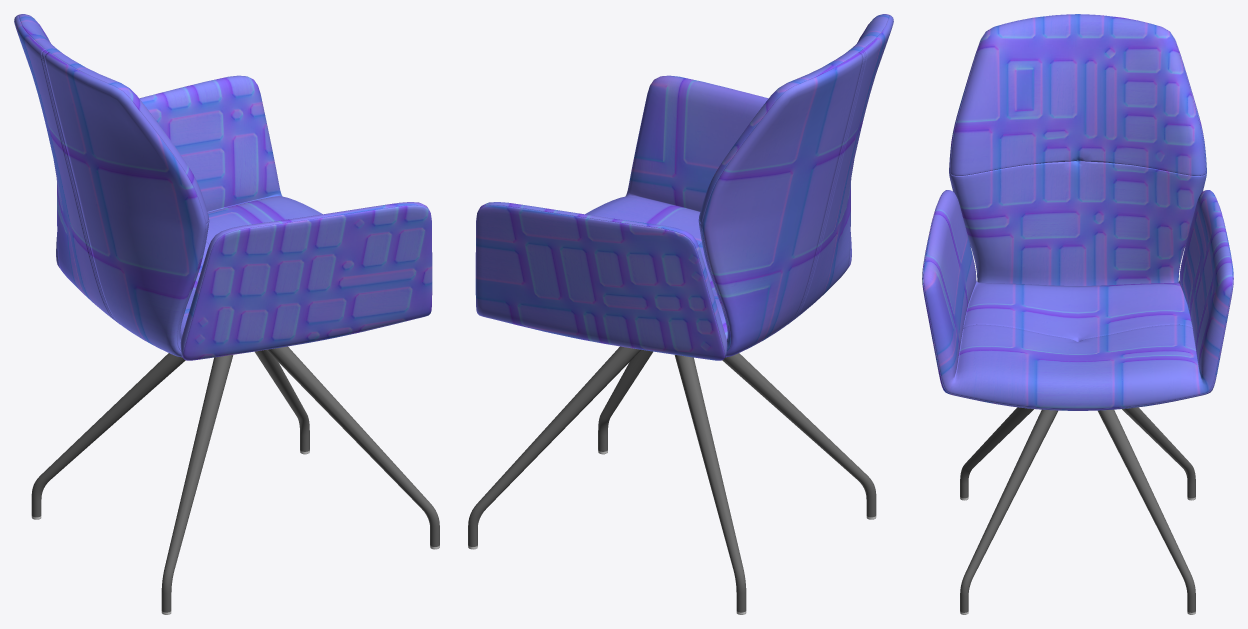
File: blue_brown.fbx
3 renders of one model, left to right at view 1: azimuth 30°, elevation 25°; view 2: azimuth 150°, elevation 25°; view 3: azimuth 270°, elevation 25°, orthographic. The views are drawn at different scales.
Visible parts, largest first — view 1: Box016, Line021; view 2: Box016, Line021; view 3: Box016, Line021.
Boxes of the visible parts, x1,y1,x2,y2 form: Box016: [14, 14, 432, 360]; Line021: [31, 346, 439, 612]; Box016: [475, 14, 893, 360]; Line021: [468, 346, 876, 612]; Box016: [922, 14, 1233, 410]; Line021: [960, 407, 1195, 612].
Bounding box in the file's own units: 58.04 × 88.41 × 54.09.
Materials: 2 (1 with a texture image).
